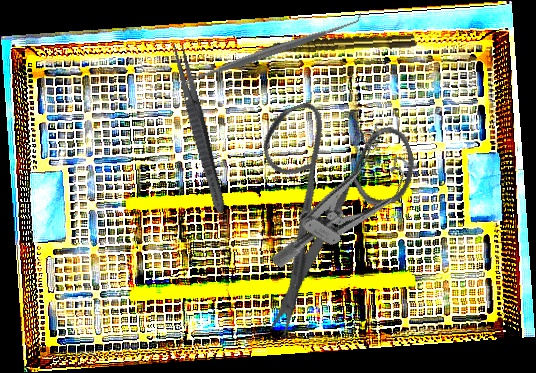Dressing Forceps: (167, 39, 230, 216)
Handpiece: (251, 33, 418, 57)
Iris Scissors: (203, 75, 456, 341)
Spatula Surgical: (179, 9, 367, 92)
Speculum: (269, 114, 426, 301)
